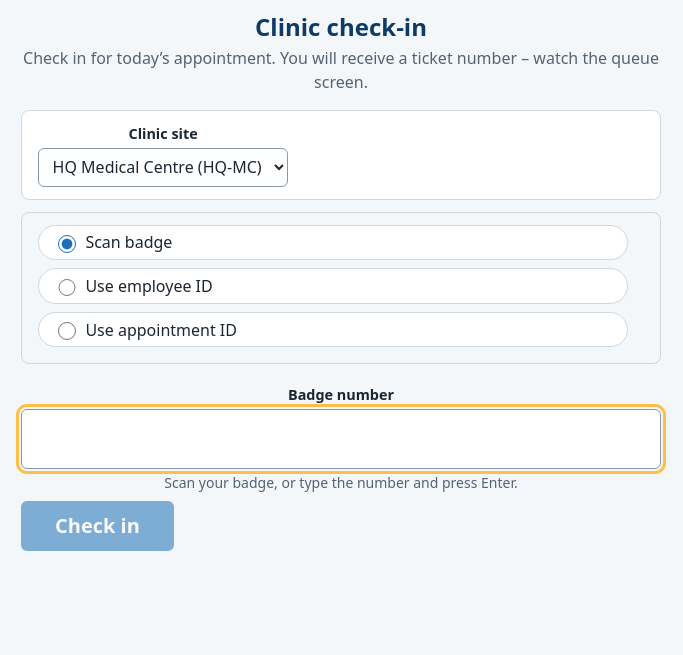
Test: Reception kiosk › shows the server problem when no appointment is found
In the field labelled "Badge number": (341, 439) top-left (21, 409), bottom-right (661, 469), type "000123"
Then press Enter
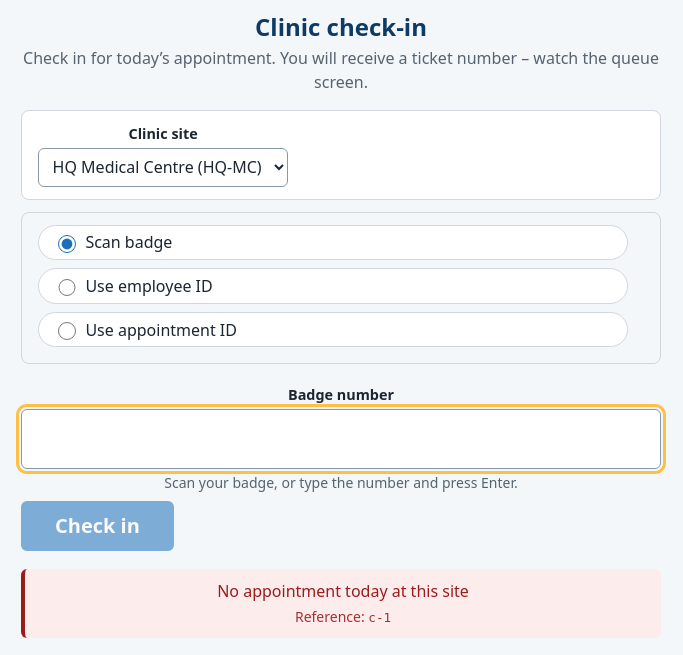
Expected: the text "No appointment today at this site" is shown, top-left (217, 580), bottom-right (469, 602)
